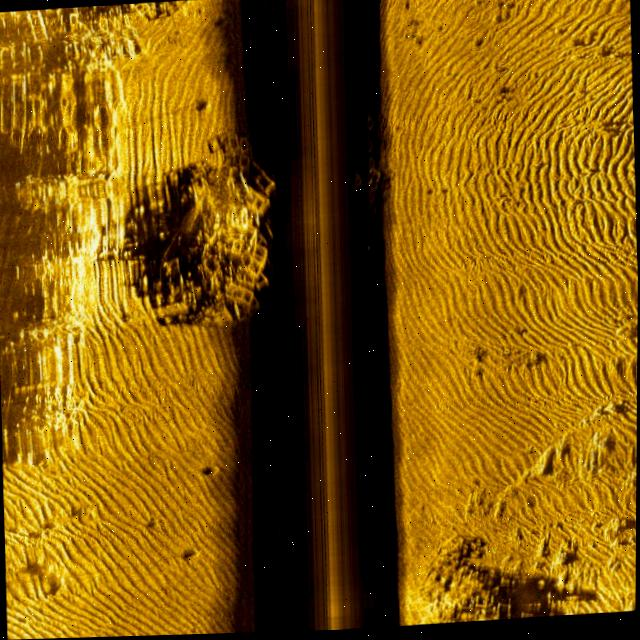artificial reef: (165, 124, 280, 341), (57, 10, 148, 92), (347, 107, 397, 242)
